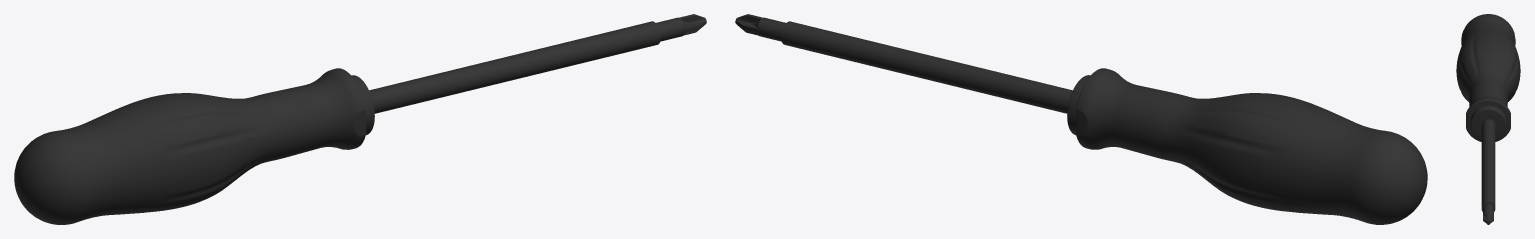
The model's file is screwdriver.obj.
3 views of the same model, side by side, from view 1: azimuth 30°, elevation 25°; view 2: azimuth 150°, elevation 25°; view 3: azimuth 270°, elevation 25° (orthographic). The views are drawn at different scales.
Parts seen in each view (by area): view 1: textured.002; view 2: textured.002; view 3: textured.002.
Part boxes in pixels (x1,y1,x2,y2): textured.002: (14, 14, 706, 224); textured.002: (735, 14, 1427, 224); textured.002: (1456, 14, 1520, 224).
Size of the model in its own units: 0.245 by 0.0344 by 0.0344.
